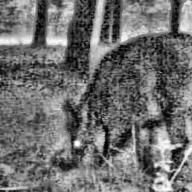boar: (48, 24, 191, 177)
